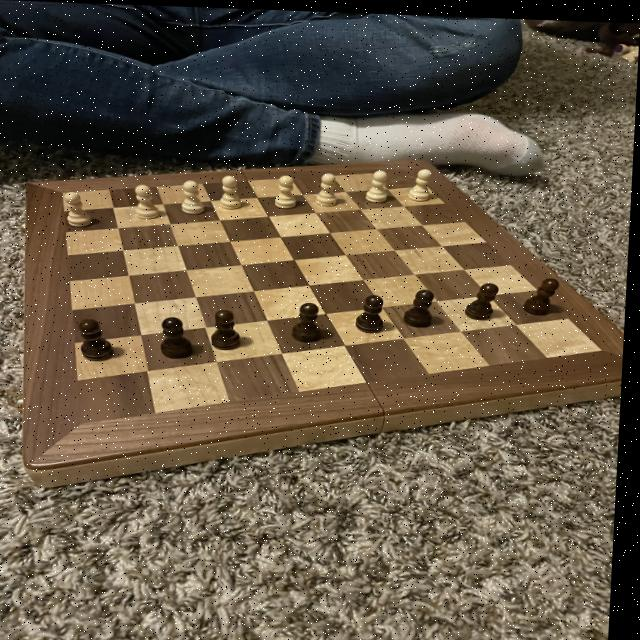black-knight: (76, 315, 123, 363), (159, 313, 202, 361), (290, 298, 331, 344), (524, 270, 566, 313), (465, 275, 505, 320), (405, 284, 443, 328), (354, 290, 391, 333), (212, 306, 247, 351)
white-knight: (61, 189, 99, 229), (132, 181, 164, 220), (179, 177, 211, 214), (218, 173, 247, 212), (313, 169, 343, 206), (408, 163, 437, 201), (366, 164, 395, 202), (274, 171, 302, 209)
